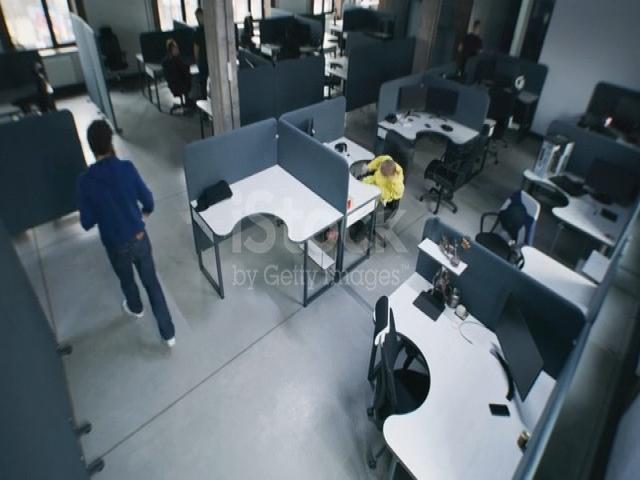empty chair: (349, 280, 454, 480), (479, 183, 536, 262), (423, 132, 460, 222), (302, 33, 349, 103), (91, 7, 135, 80), (487, 69, 512, 167), (29, 55, 56, 112)
occupiedchair: (156, 22, 209, 120), (371, 134, 409, 245), (580, 81, 640, 144)
